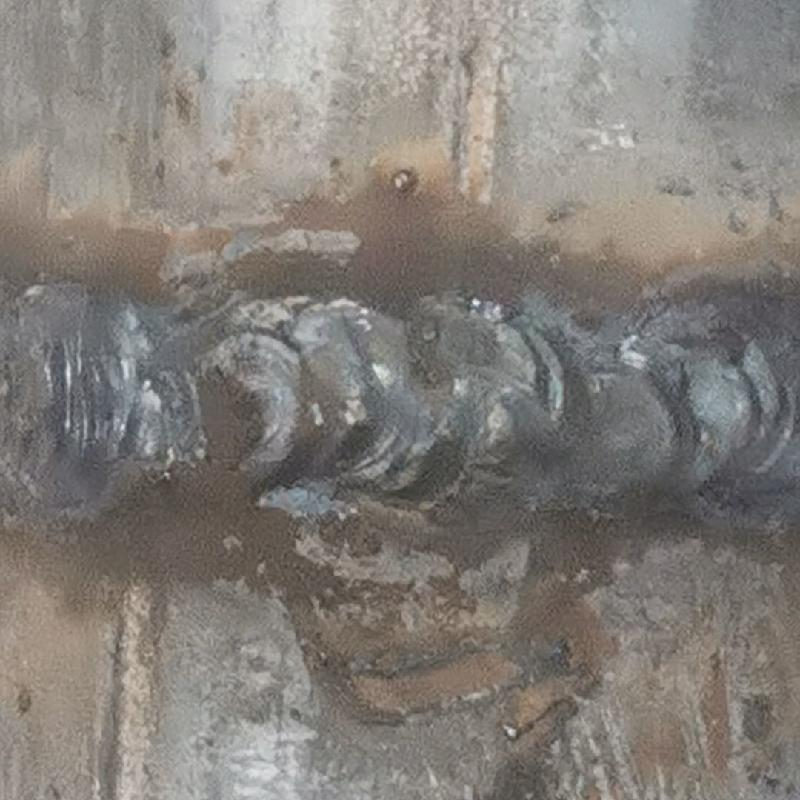good: (1, 275, 799, 521)
